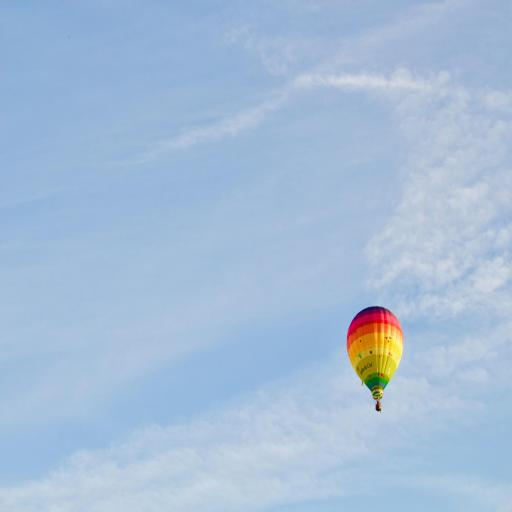hot air ballon: (346, 306, 404, 412)
